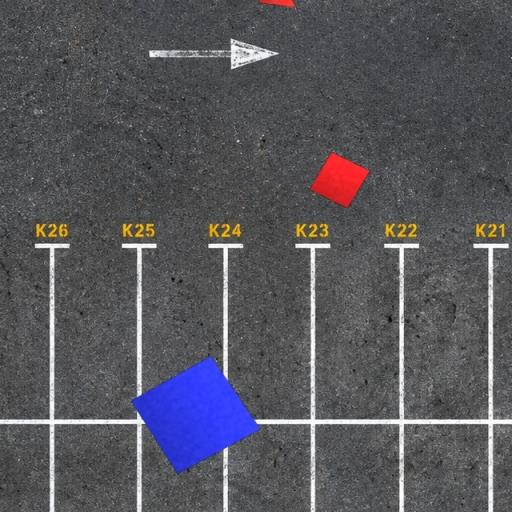BLUE_SQUARE: (130, 355, 262, 475)
RED_SQUARE: (309, 151, 371, 209)
